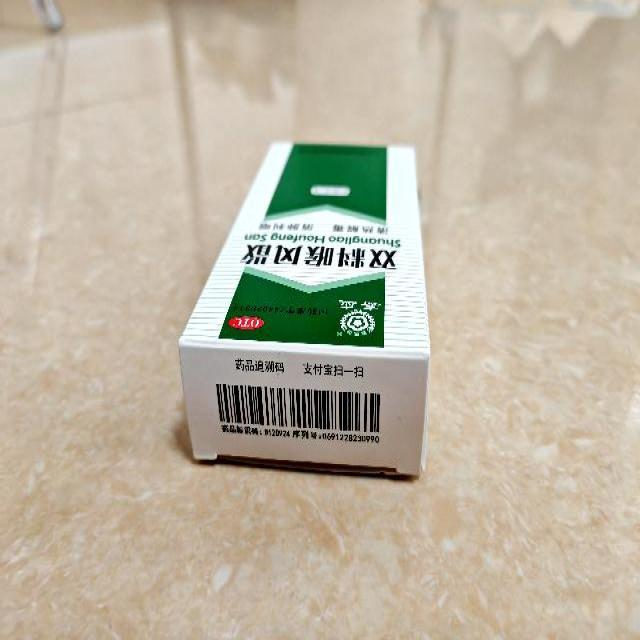box: (178, 140, 432, 478)
